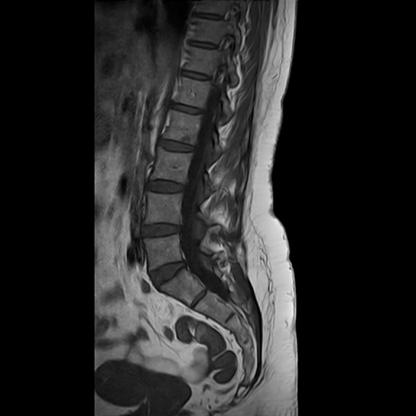Disc Bulgerotation: (147, 258, 196, 287), (137, 220, 185, 244)
